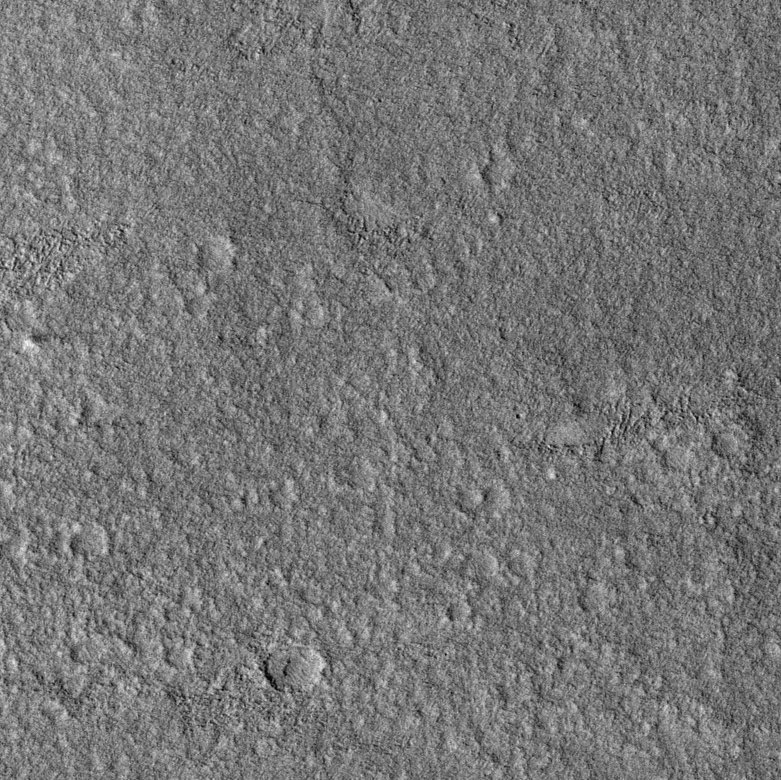dust_devil: (19, 332, 65, 356)
